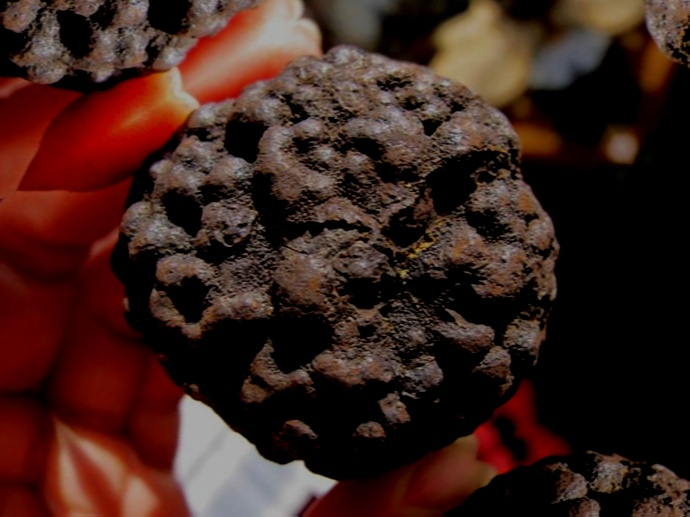halobolite: (54, 0, 640, 517)
